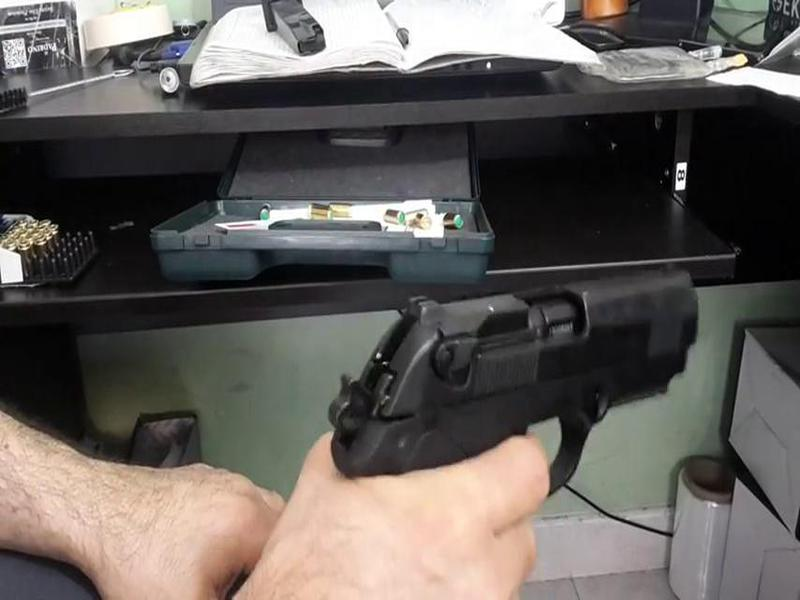Pistola: (252, 264, 769, 477)
